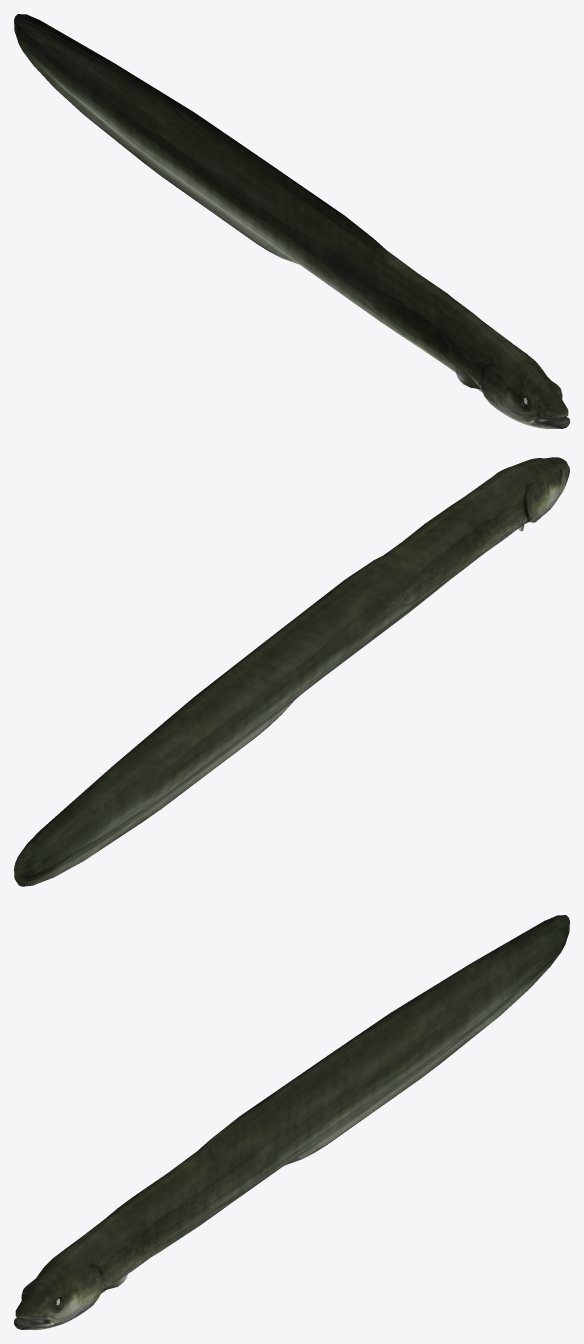
The model's file is eel.glb.
3 views of the same model, one above another, from view 1: azimuth 30°, elevation 25°; view 2: azimuth 150°, elevation 25°; view 3: azimuth 330°, elevation 25° (orthographic).
Parts seen in each view (by area): view 1: Object_7; view 2: Object_7; view 3: Object_7.
Boxes of the visible parts, bbox=[...] form: Object_7: bbox=[14, 14, 569, 428]; Object_7: bbox=[14, 457, 569, 886]; Object_7: bbox=[14, 915, 569, 1329].
Bounding box in the file's own units: 0.0397 × 0.0571 × 0.5997.
Materials: 2 (2 with a texture image).
